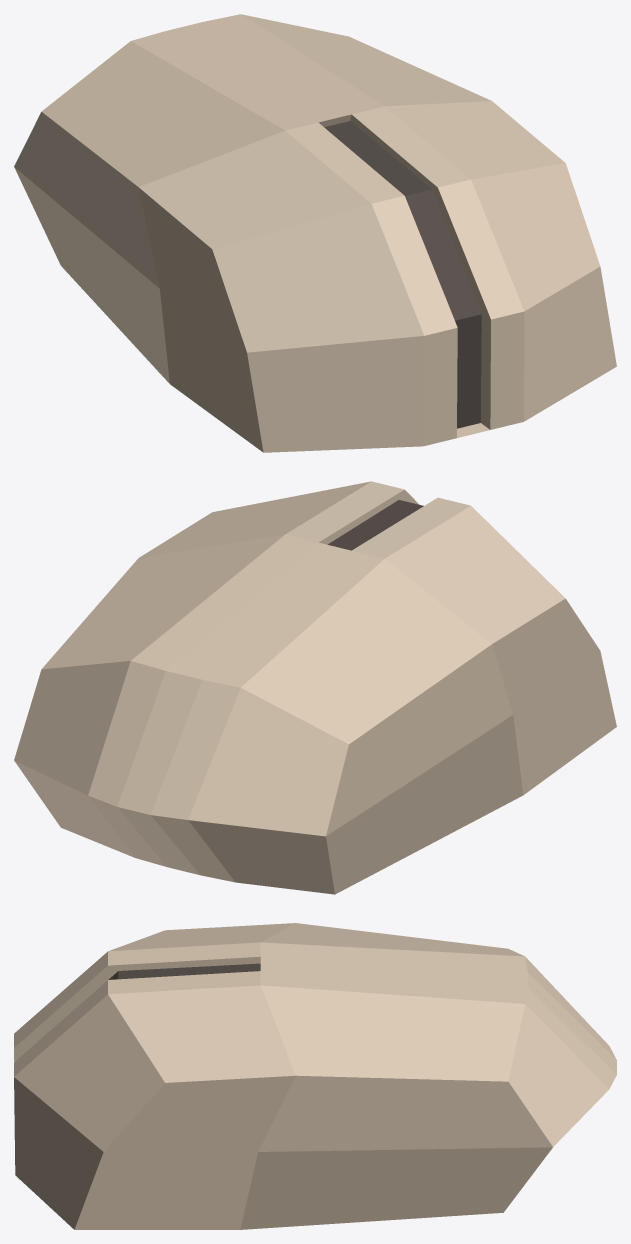
The model's file is Big Mouse.fbx.
3 views of the same model, one above another, from view 1: azimuth 30°, elevation 25°; view 2: azimuth 150°, elevation 25°; view 3: azimuth 270°, elevation 25° (orthographic). The views are drawn at different scales.
Parts seen in each view (by area): view 1: Big Mouse; view 2: Big Mouse; view 3: Big Mouse.
Boxes of the visible parts, x1,y1,x2,y2 form: Big Mouse: (14,14,616,452); Big Mouse: (14,481,616,894); Big Mouse: (14,923,616,1229).
Size of the model in its own units: 0.11 by 0.0637 by 0.1835.
